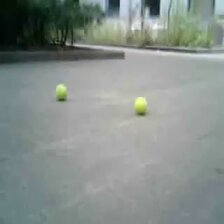tennis: (133, 97, 148, 114), (55, 84, 69, 99)
